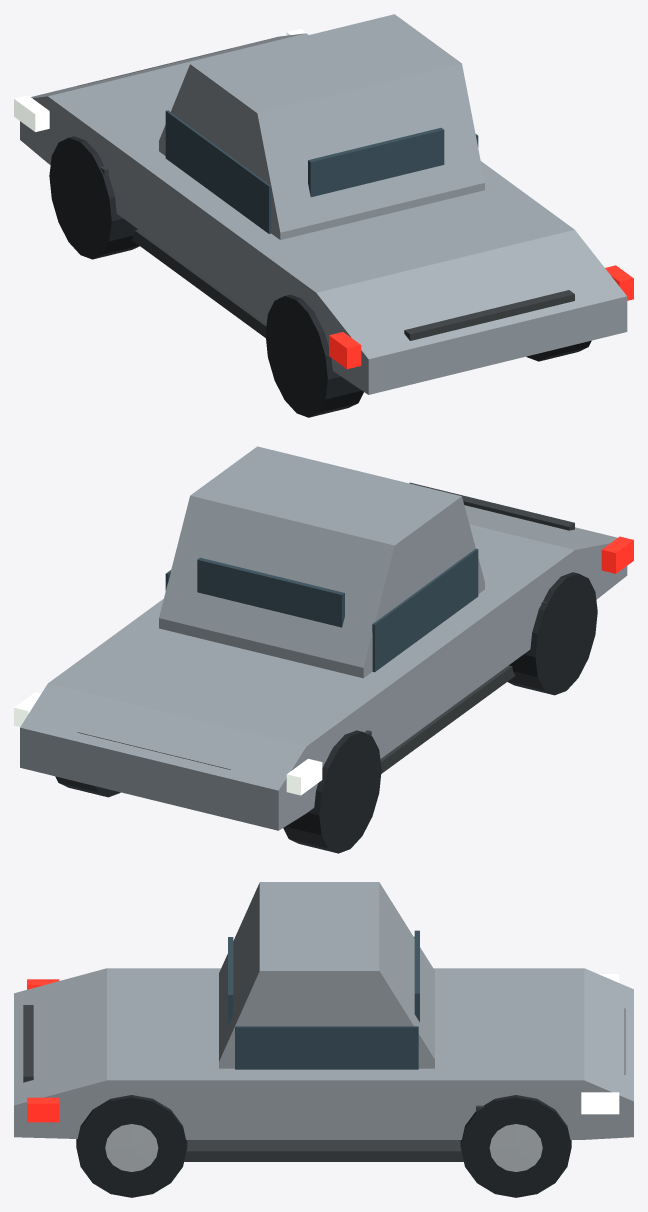
File: mercedes-benz-glc-300.glb
3 renders of one model, top to bottom at view 1: azimuth 30°, elevation 25°; view 2: azimuth 150°, elevation 25°; view 3: azimuth 270°, elevation 25°, orthographic. The views are drawn at different scales.
Visible parts, largest first — view 1: mercedes-benz-glc-300 illustrative model; view 2: mercedes-benz-glc-300 illustrative model; view 3: mercedes-benz-glc-300 illustrative model.
Part boxes in pixels (left/top/right/bottom): mercedes-benz-glc-300 illustrative model: left=14, top=14, right=633, bottom=417; mercedes-benz-glc-300 illustrative model: left=14, top=446, right=633, bottom=853; mercedes-benz-glc-300 illustrative model: left=14, top=882, right=633, bottom=1197.
Bounding box in the file's own units: 2.02 × 1.61 × 4.25.
